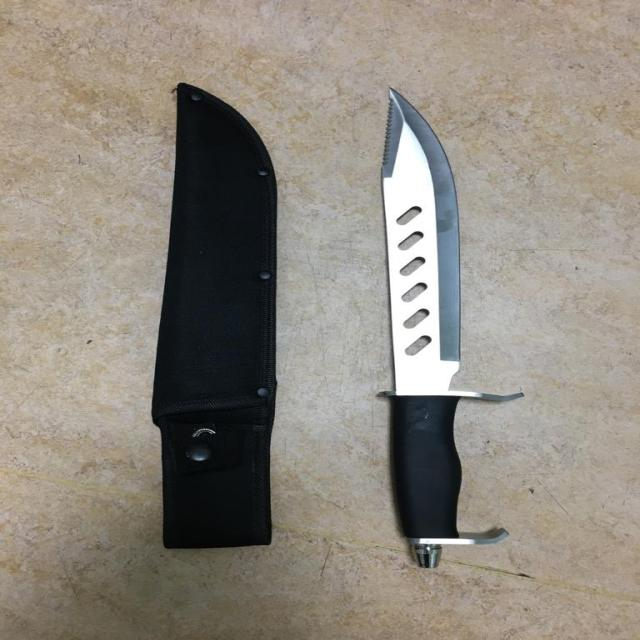Sharp-Object: (385, 87, 469, 565)
